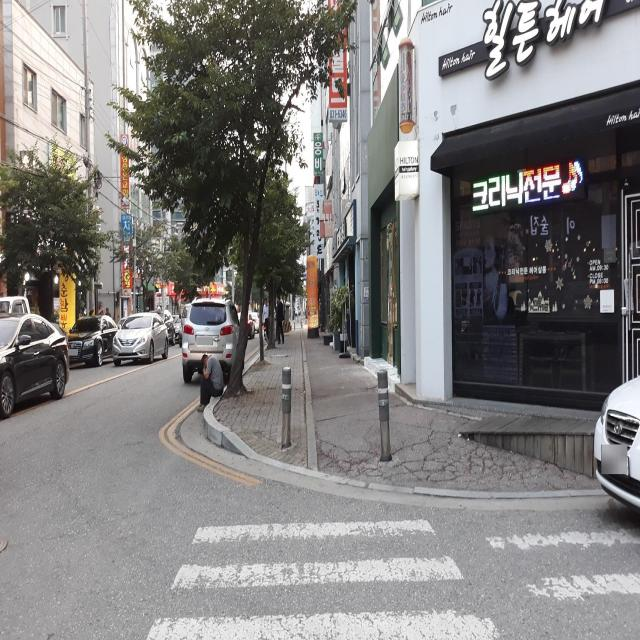횡단보도: (143, 516, 640, 640)
